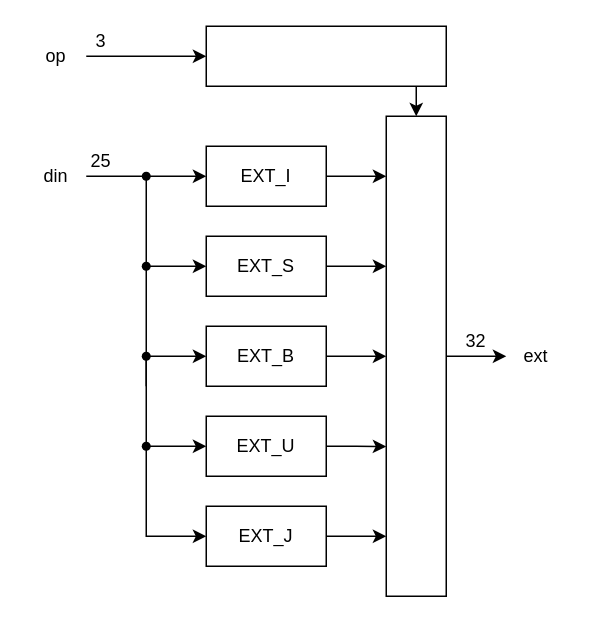
The diagram is 591 pixels wide and 623 high, and some of its shapes have lost their labels. The centre of each missing label's shape, as x and y in pixels:
"MUX" goes at point 415,355.
"译码器" goes at point 325,55.
